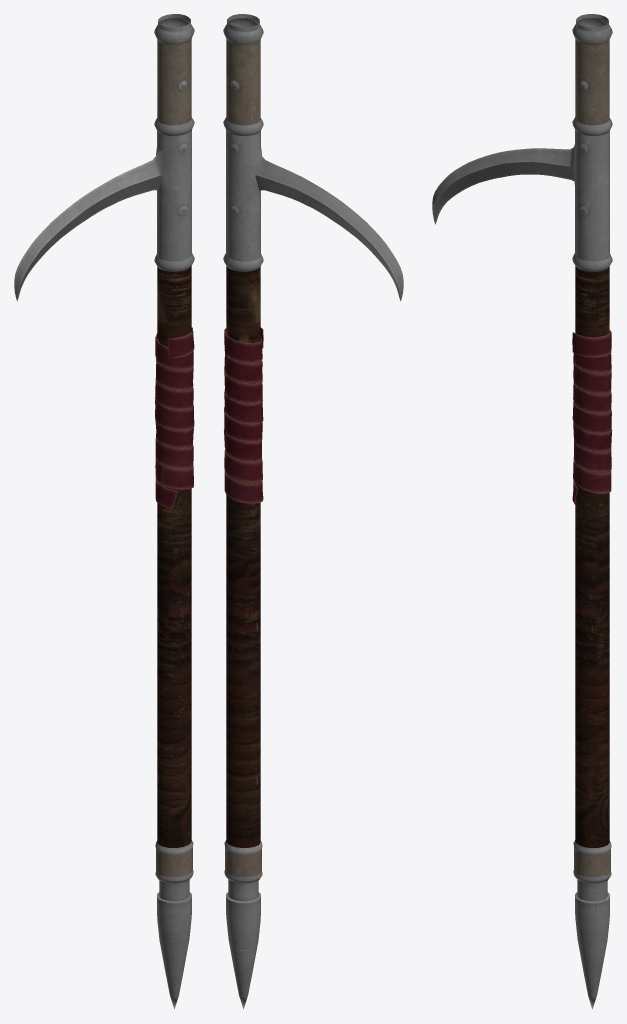
Rendered from easterling_spear_handle.fbx.
3 renders of one model, left to right at view 1: azimuth 30°, elevation 25°; view 2: azimuth 150°, elevation 25°; view 3: azimuth 330°, elevation 25°, orthographic.
Visible parts, largest first — view 1: easterling_spear_handle; view 2: easterling_spear_handle; view 3: easterling_spear_handle.
Boxes of the visible parts, bbox=[...] form: easterling_spear_handle: bbox=[14, 14, 194, 1009]; easterling_spear_handle: bbox=[223, 14, 403, 1009]; easterling_spear_handle: bbox=[432, 14, 612, 1009].
Size of the model in its own units: 0.2594 by 0.0491 by 1.38.
1 material, 1 textured.
